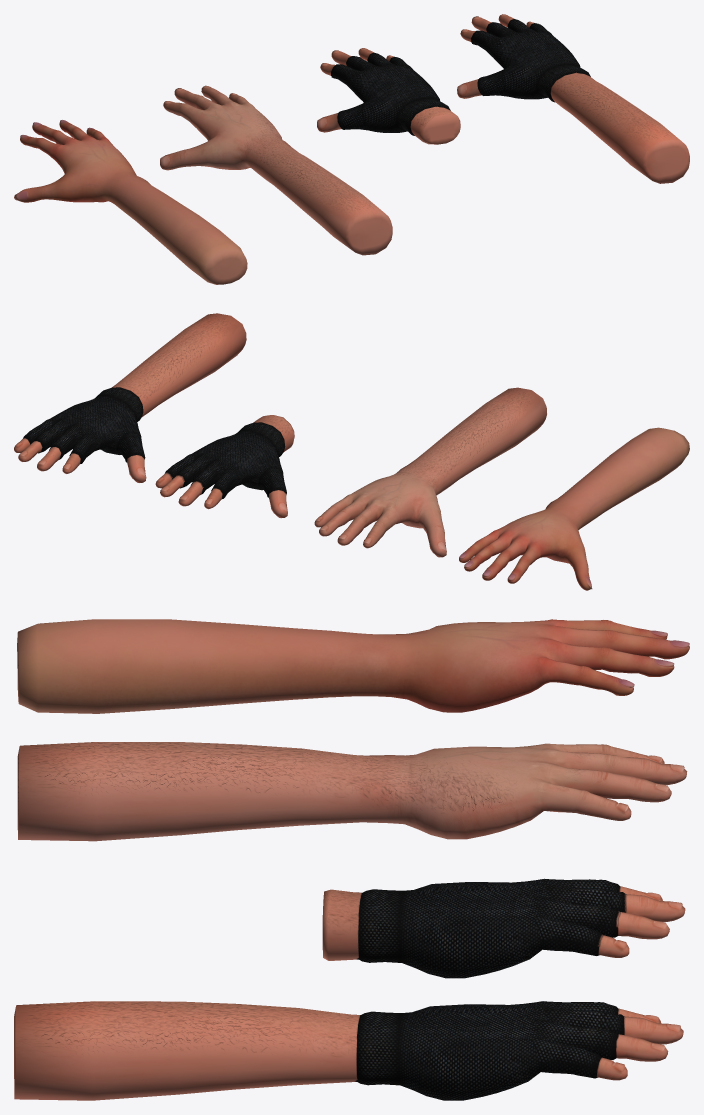
File: Hands-and-Arms---not-rigged-Demo-only.glb
3 renders of one model, top to bottom at view 1: azimuth 30°, elevation 25°; view 2: azimuth 150°, elevation 25°; view 3: azimuth 270°, elevation 25°, orthographic. The views are drawn at different scales.
Parts seen in each view (by area): view 1: ArmWithGloves, newArm, Female_Arm, ArmWithGlovesShorter; view 2: ArmWithGloves, newArm, Female_Arm, ArmWithGlovesShorter; view 3: ArmWithGloves, newArm, Female_Arm, ArmWithGlovesShorter.
Part boxes in pixels (x1,y1,x2,y2): ArmWithGloves: (457,14,689,183); newArm: (160,85,392,255); Female_Arm: (14,120,247,284); ArmWithGlovesShorter: (317,48,460,144); ArmWithGloves: (14,313,246,482); newArm: (314,387,546,557); Female_Arm: (459,427,689,590); ArmWithGlovesShorter: (155,415,294,518); ArmWithGloves: (14,1001,683,1100); newArm: (17,742,687,841); Female_Arm: (17,619,689,713); ArmWithGlovesShorter: (322,878,685,978).
Size of the model in its own units: 76.41 by 6.59 by 45.83.
3 materials, 3 textured.
